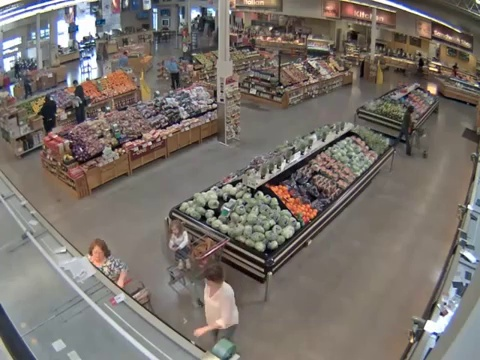face: (91, 244, 105, 263), (204, 275, 215, 290), (168, 224, 181, 234)
